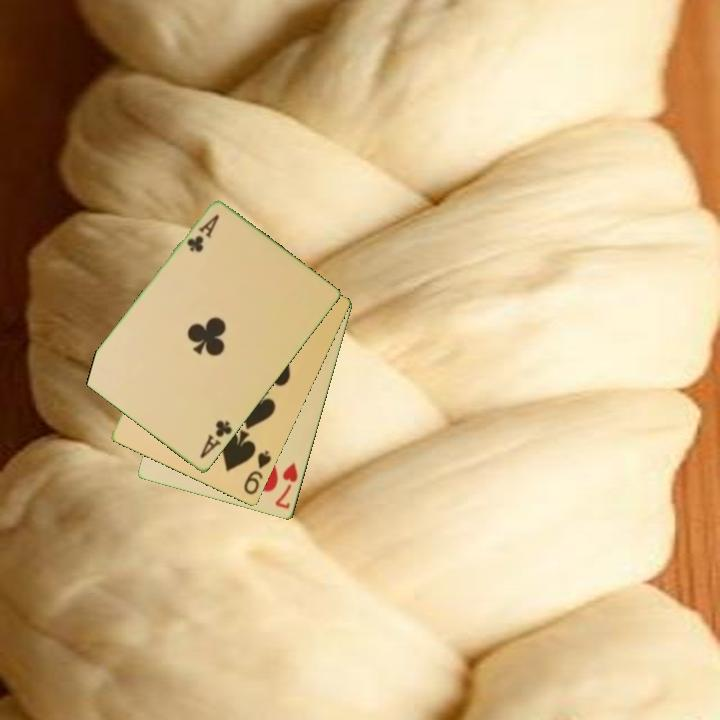7h: (272, 459, 301, 512)
9s: (240, 447, 275, 498)
Ac: (196, 417, 235, 462), (183, 211, 222, 256)
